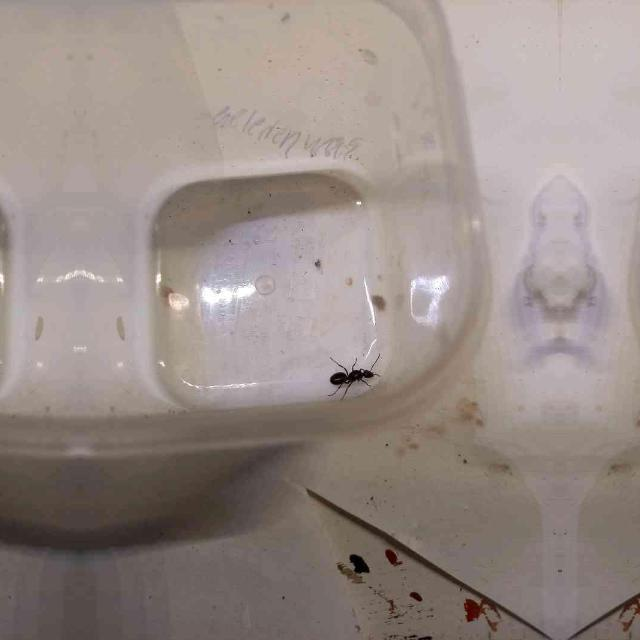Formica: (332, 356, 374, 396)
